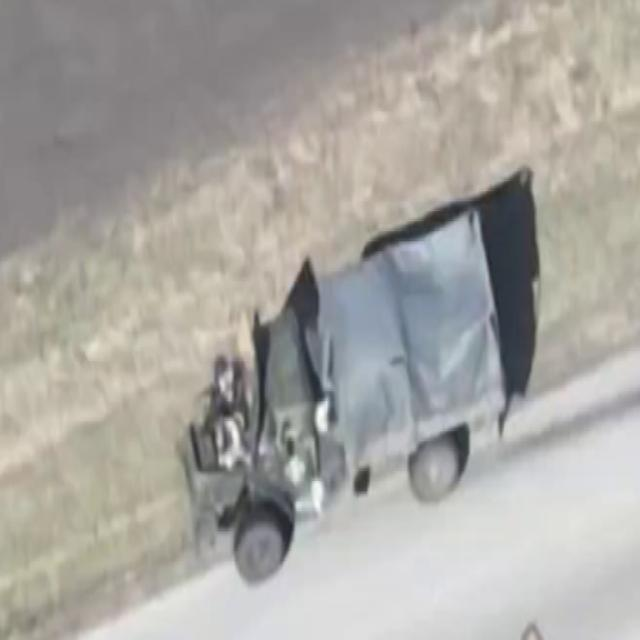TRUCK: (180, 197, 509, 581)
